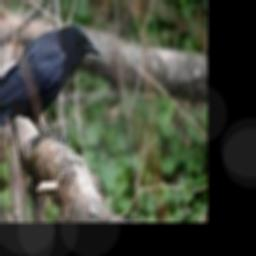Crow: (0, 24, 100, 169)
